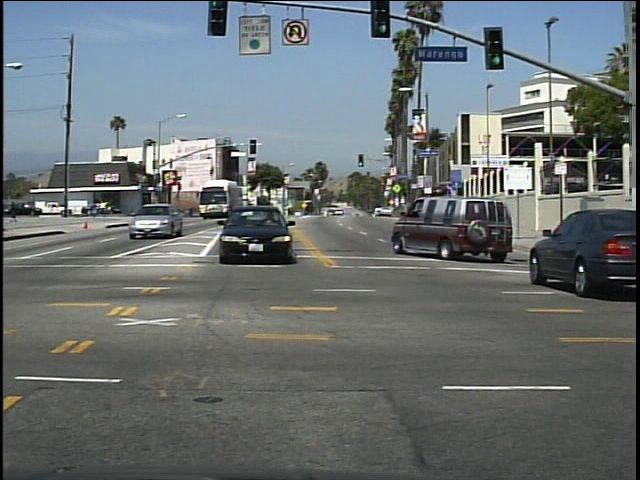person: (7, 198, 23, 227)
